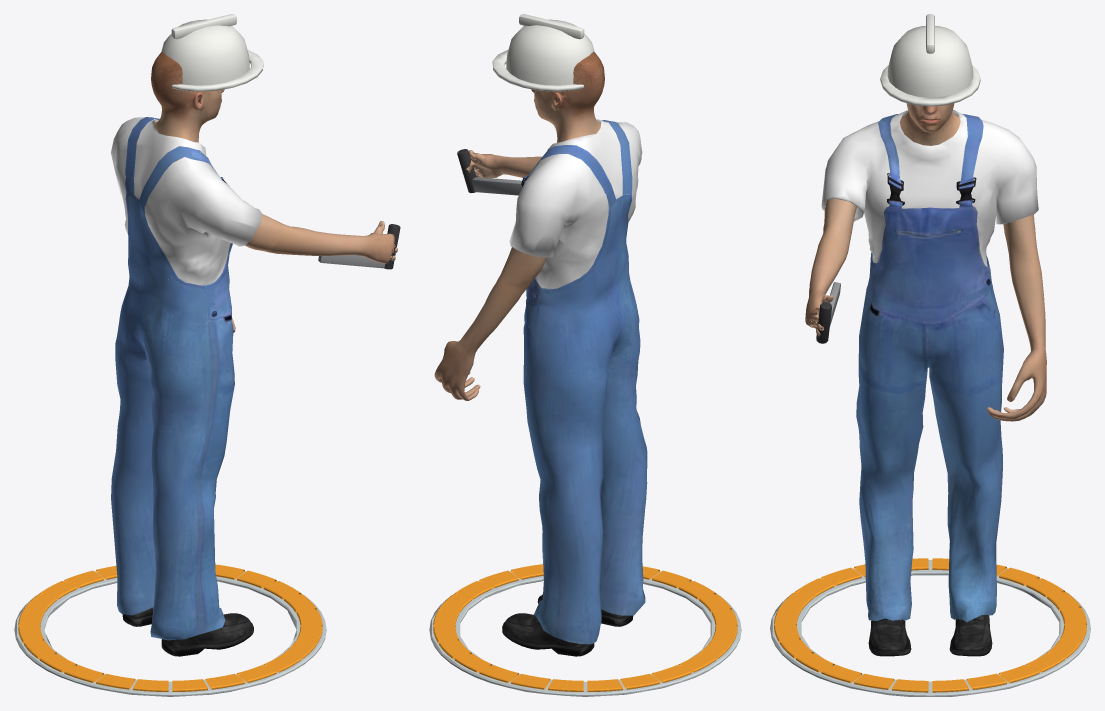
File: MDO-EQP-003_lod1.glb
3 renders of one model, left to right at view 1: azimuth 30°, elevation 25°; view 2: azimuth 150°, elevation 25°; view 3: azimuth 270°, elevation 25°, orthographic. The views are drawn at different scales.
Parts seen in each view (by area): view 1: MDO-EQP-003_pessoa_male_worksuit01, MDO-EQP-003_pessoa, MDO-EQP-003_capacete, MDO-EQP-003_anel_fundo, MDO-EQP-003_pessoa_shoes04, MDO-EQP-003_capacete_aba, MDO-EQP-003_capacete_friso, MDO-EQP-003_ferD_manivela; view 2: MDO-EQP-003_pessoa_male_worksuit01, MDO-EQP-003_pessoa, MDO-EQP-003_capacete, MDO-EQP-003_anel_fundo, MDO-EQP-003_pessoa_shoes04, MDO-EQP-003_capacete_aba, MDO-EQP-003_ferD_manivela, MDO-EQP-003_capacete_friso; view 3: MDO-EQP-003_pessoa_male_worksuit01, MDO-EQP-003_pessoa, MDO-EQP-003_capacete, MDO-EQP-003_anel_fundo, MDO-EQP-003_pessoa_shoes04, MDO-EQP-003_capacete_aba.
Boxes of the visible parts, x1,y1,x2,y2 form: MDO-EQP-003_pessoa_male_worksuit01: (111, 117, 261, 640); MDO-EQP-003_pessoa: (151, 52, 397, 332); MDO-EQP-003_capacete: (161, 19, 249, 85); MDO-EQP-003_anel_fundo: (14, 571, 326, 696); MDO-EQP-003_pessoa_shoes04: (122, 607, 253, 656); MDO-EQP-003_capacete_aba: (172, 49, 263, 91); MDO-EQP-003_capacete_friso: (171, 14, 236, 39); MDO-EQP-003_ferD_manivela: (318, 255, 385, 268); MDO-EQP-003_pessoa_male_worksuit01: (509, 119, 647, 644); MDO-EQP-003_pessoa: (434, 51, 604, 400); MDO-EQP-003_capacete: (506, 19, 594, 85); MDO-EQP-003_anel_fundo: (429, 571, 741, 696); MDO-EQP-003_pessoa_shoes04: (502, 594, 633, 656); MDO-EQP-003_capacete_aba: (492, 50, 583, 91); MDO-EQP-003_ferD_manivela: (471, 177, 522, 195); MDO-EQP-003_capacete_friso: (519, 14, 584, 39); MDO-EQP-003_pessoa_male_worksuit01: (821, 110, 1038, 621); MDO-EQP-003_pessoa: (805, 103, 1046, 421); MDO-EQP-003_capacete: (887, 26, 973, 97); MDO-EQP-003_anel_fundo: (770, 560, 1090, 696); MDO-EQP-003_pessoa_shoes04: (868, 614, 992, 656); MDO-EQP-003_capacete_aba: (880, 65, 980, 106).
Size of the model in its own units: 0.9744 by 1.79 by 0.84.
10 materials, 5 textured.
